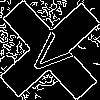V: (25, 25, 81, 80)
